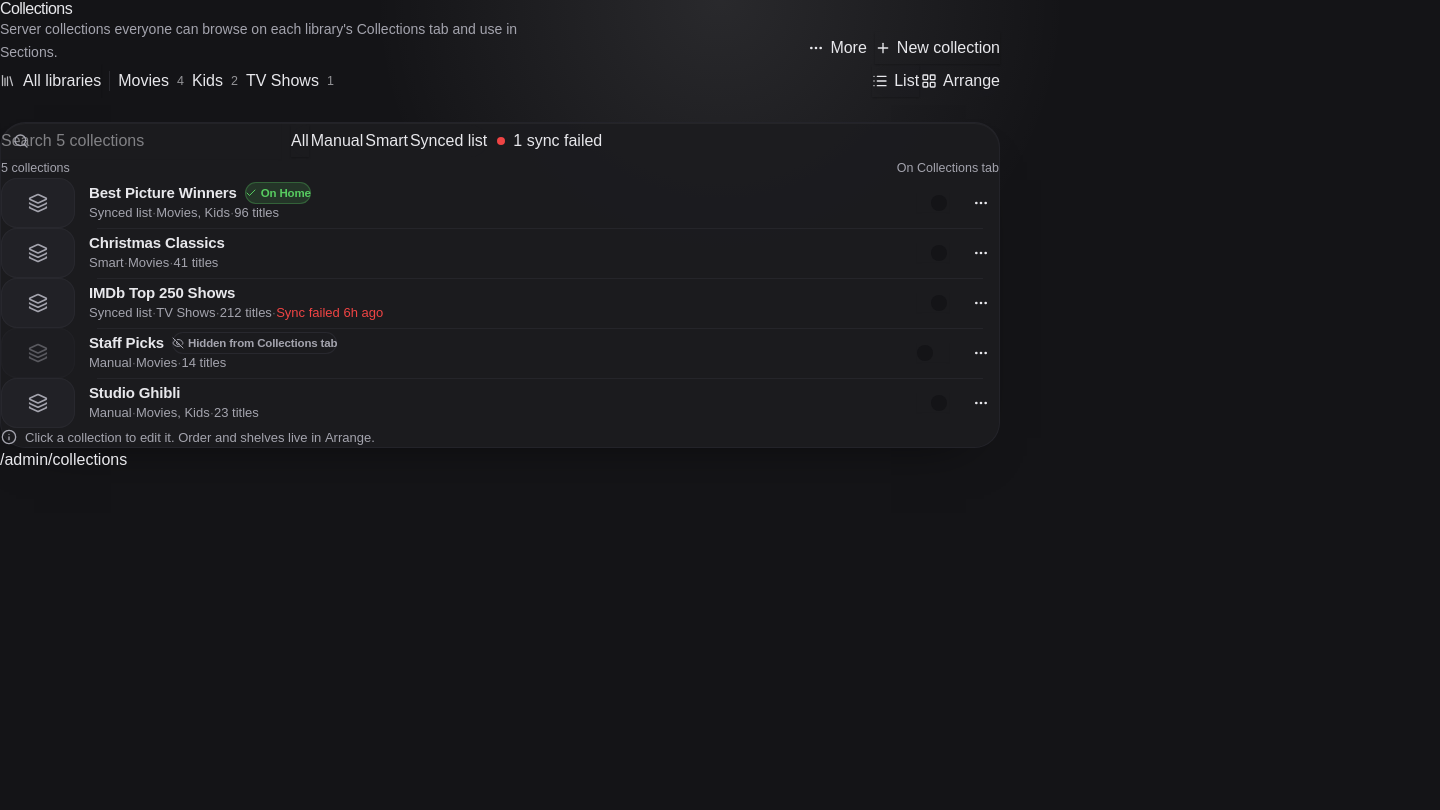
AdminCollections List row menu › keeps the collection and says why when rows still use it and the server doesn't list them
The image size is (1440, 810).
Expected: the text "Best Picture Winners" is shown, 89,182 -> 237,204
Click the button named "More for Best Picture Winners": (981, 203) 963,185 -> 999,221
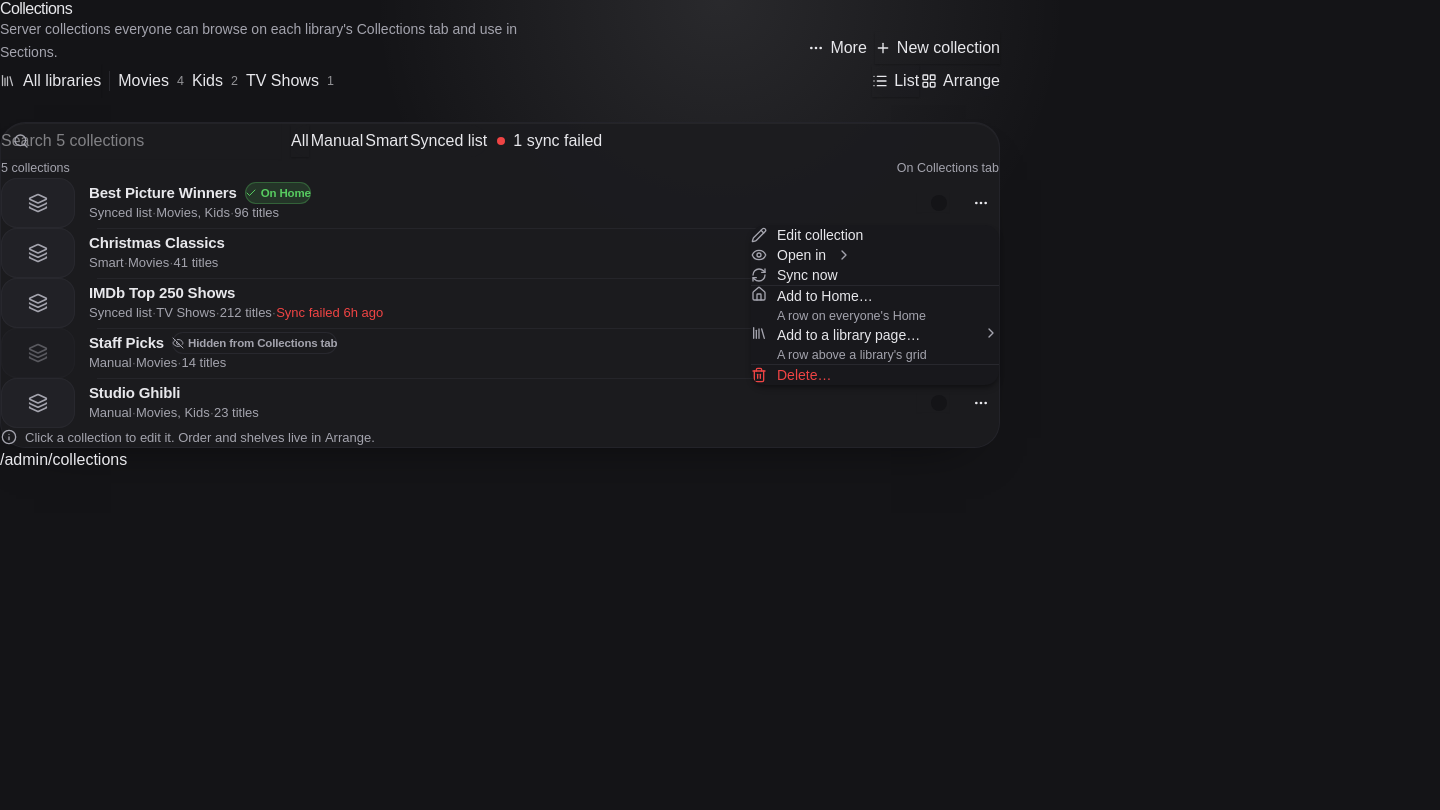
Click the menu item "Delete…": (791, 375) 751,367 -> 832,383
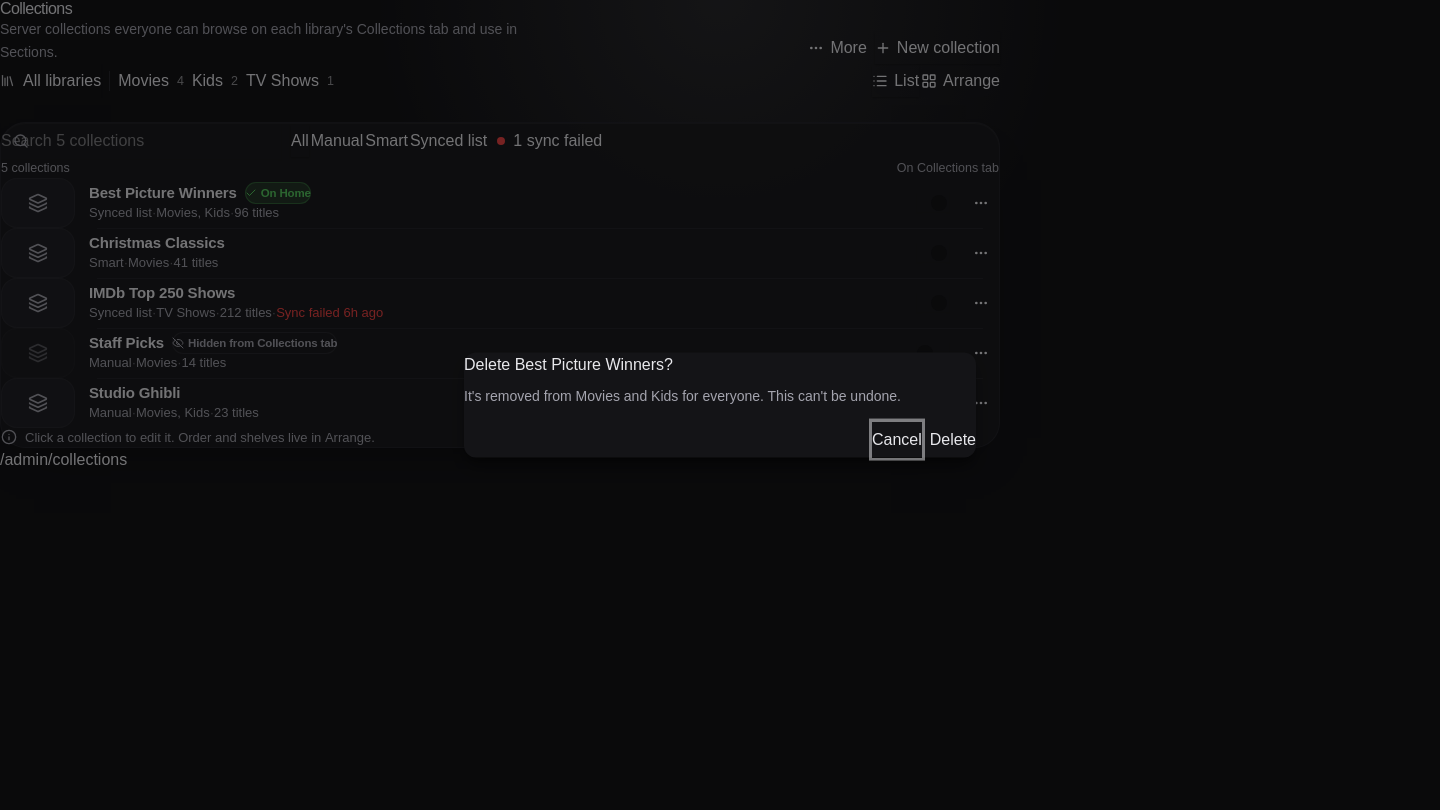
Click the button "Delete": (953, 439) 930,421 -> 976,457
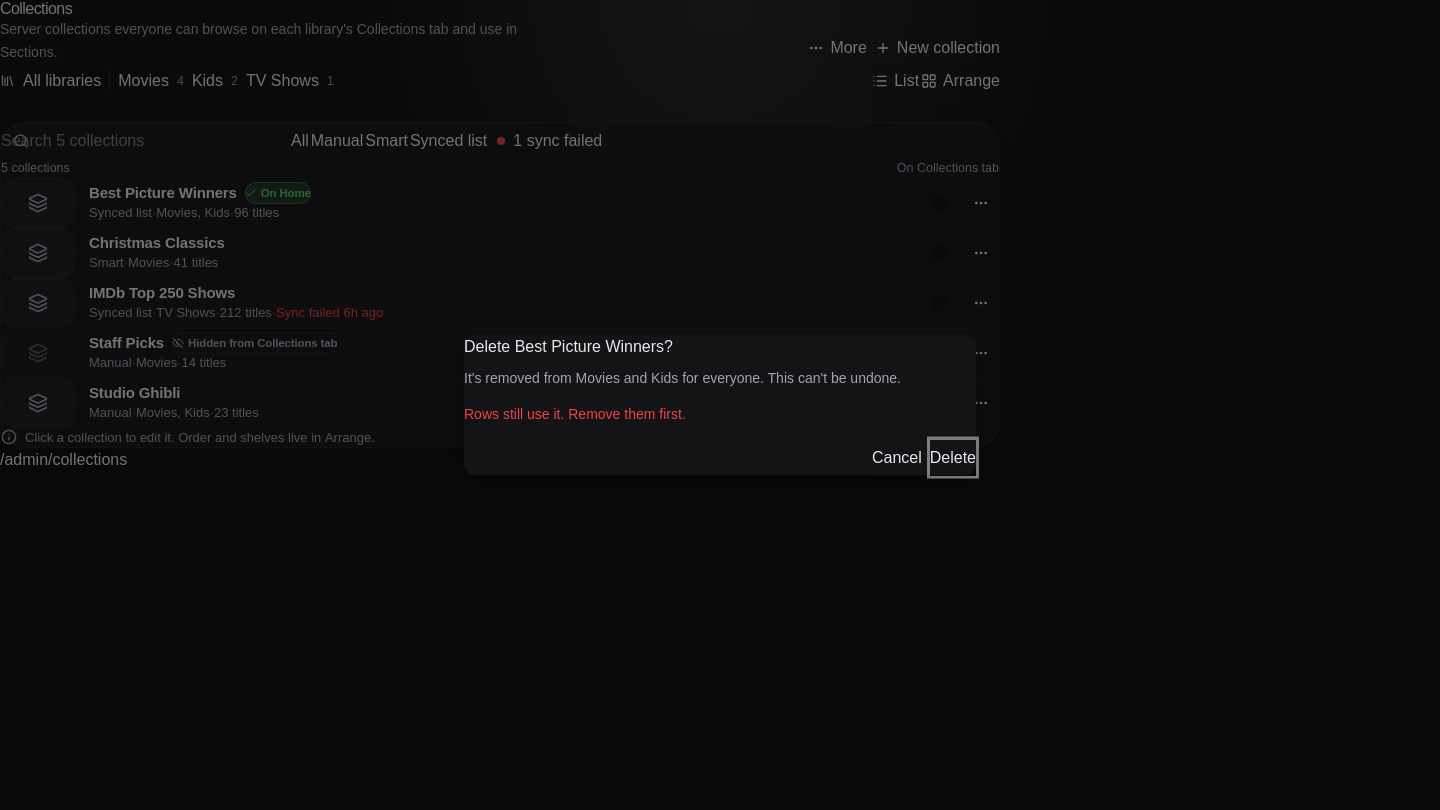
Result: the dialog is shown at 464,335 -> 976,476
Click the button "Cancel": (897, 457) 872,439 -> 922,475
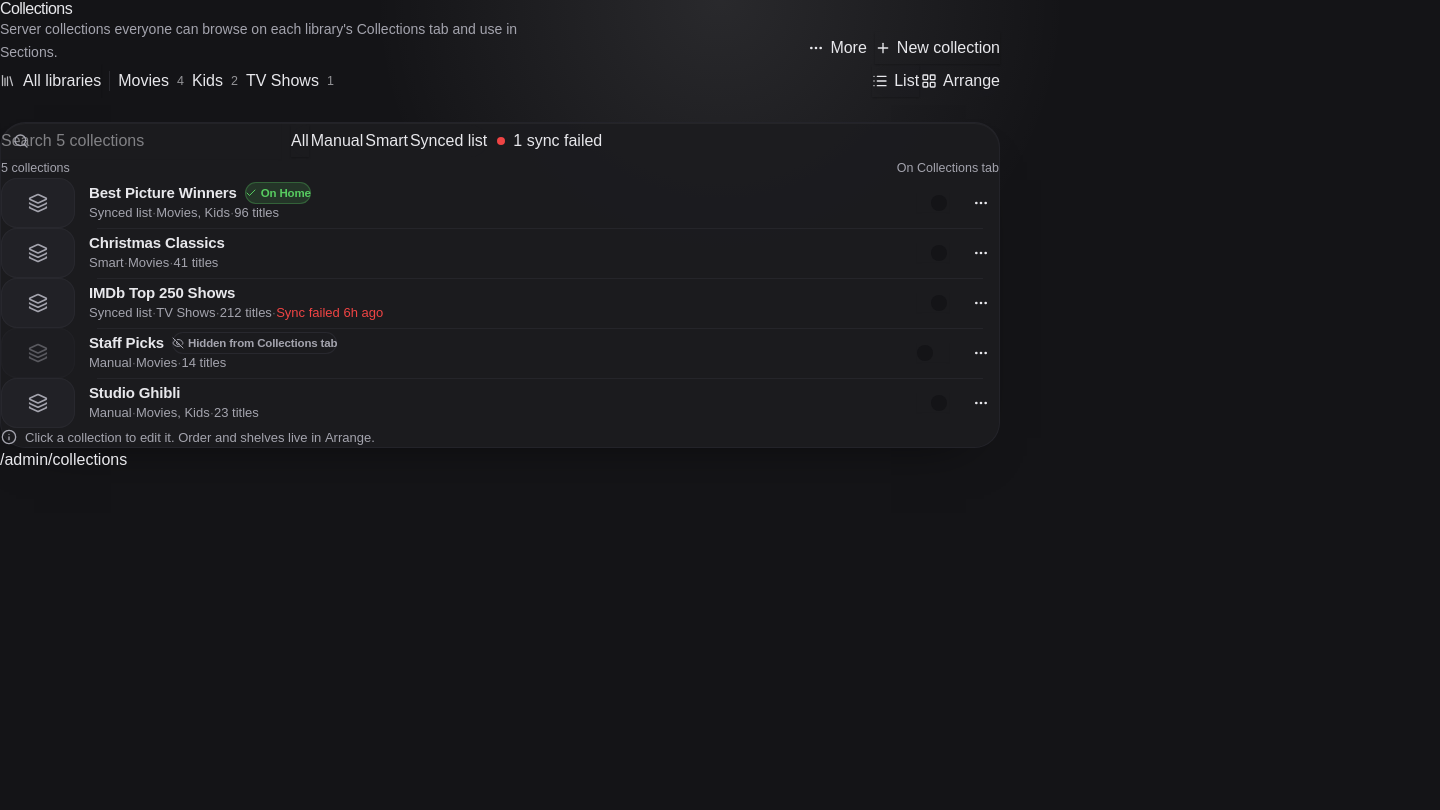
Expected: the list item "Best Picture Winners" is shown, 89,184 -> 237,201
Result: the dialog is gone
